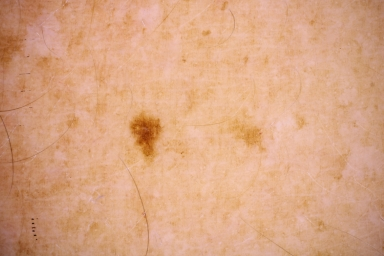melanoma: (130, 112, 162, 157)
